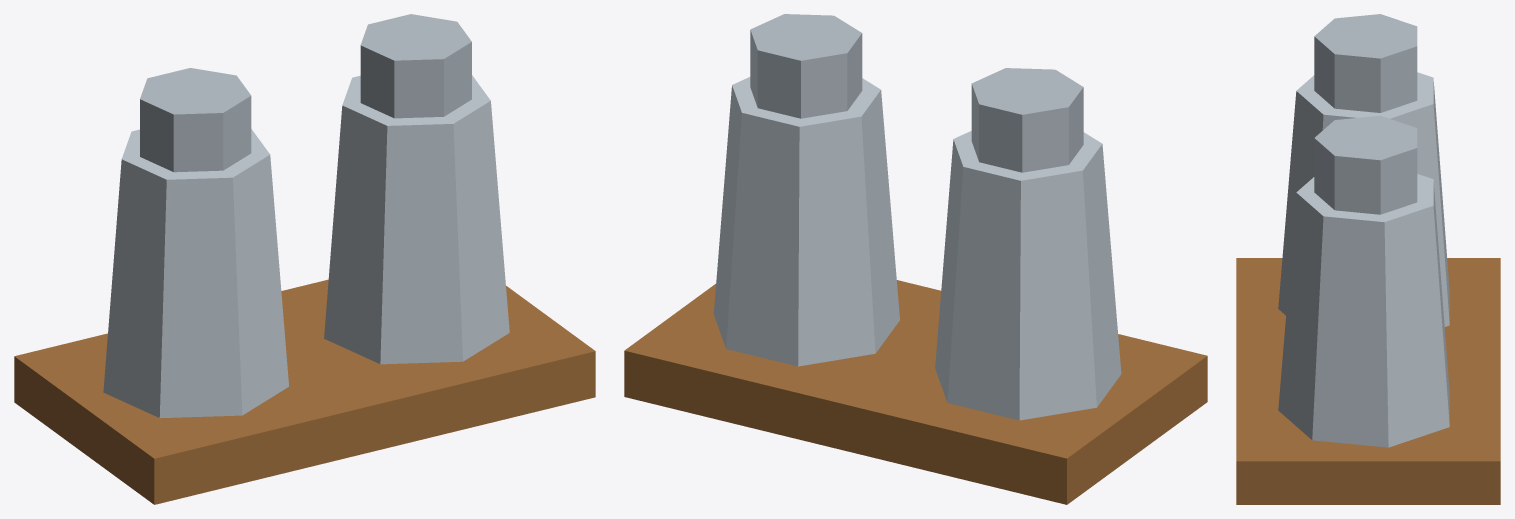
The model's file is latao_leite.glb.
3 views of the same model, side by side, from view 1: azimuth 30°, elevation 25°; view 2: azimuth 150°, elevation 25°; view 3: azimuth 270°, elevation 25° (orthographic). The views are drawn at different scales.
Parts seen in each view (by area): view 1: corpo; view 2: corpo; view 3: corpo.
Boxes of the visible parts, <box> form: corpo: <box>14,14,595,504</box>; corpo: <box>624,14,1207,504</box>; corpo: <box>1236,14,1500,504</box>.
Size of the model in its own units: 0.4 by 0.29 by 0.22.
